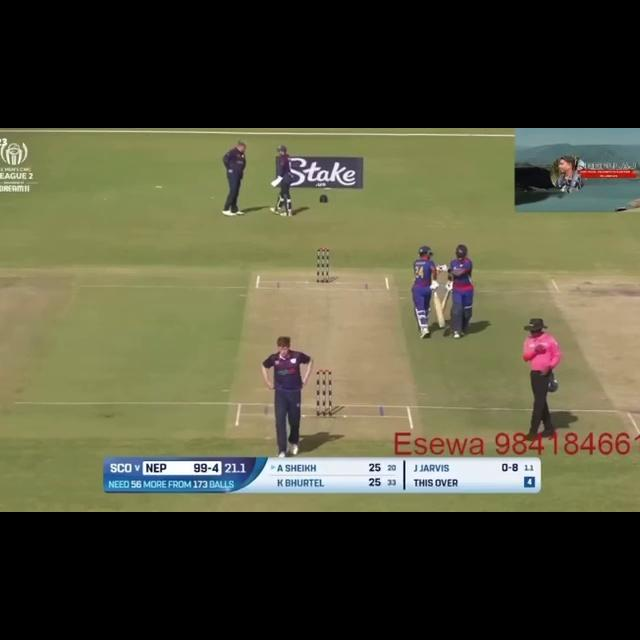umpire: (512, 313, 569, 438)
